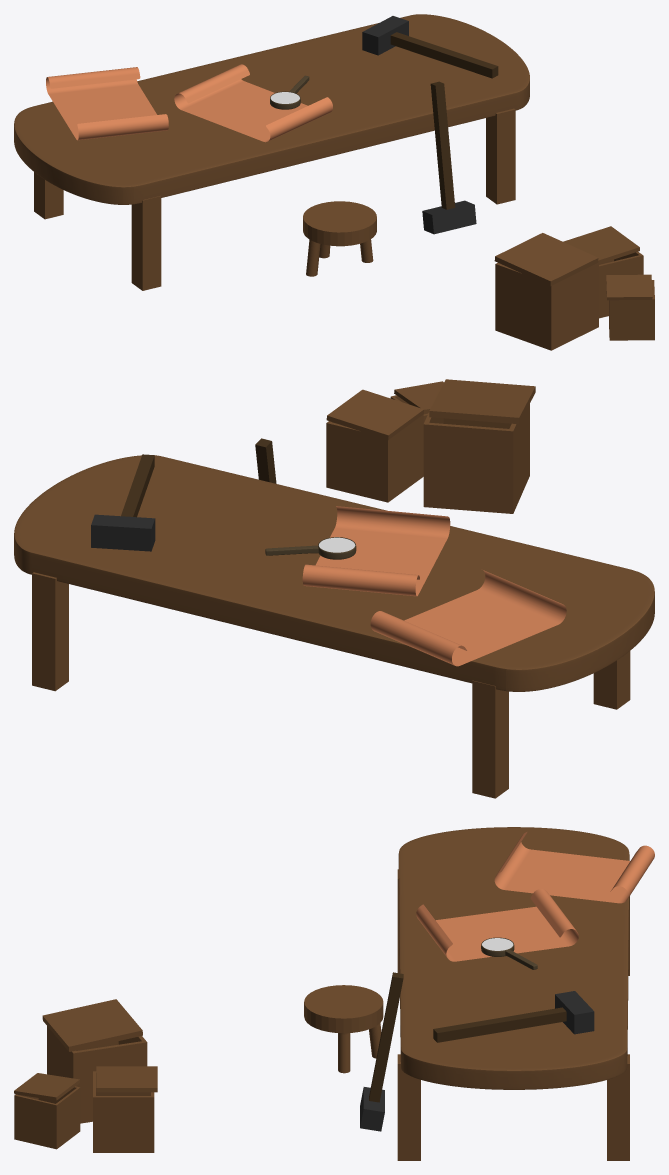
Rendered from Workshop.fbx.
3 views of the same model, one above another, from view 1: azimuth 30°, elevation 25°; view 2: azimuth 150°, elevation 25°; view 3: azimuth 270°, elevation 25° (orthographic). The views are drawn at different scales.
Parts seen in each view (by area): view 1: Cylinder.005, Cube.012, Plane, Plane.001, Cube.013, Cube.010, Cylinder.007, Cube.001, Cube.008, Cube.002, Cube.011, Cube.003 (+1 smaller); view 2: Cylinder.005, Cube.012, Plane, Cube.011, Plane.001, Cube.004, Cube.003, Cube.008, Cube.001, Cube.013, Cylinder.013, Cube.010; view 3: Cylinder.005, Cube.012, Plane, Plane.001, Cube.011, Cube.013, Cylinder.007, Cube.008, Cube.010, Cube.002, Cube.004, Cylinder.013 (+1 smaller).
Boxes of the visible parts, x1,y1,x2,y2 form: Cylinder.005: [14, 14, 529, 204]; Cube.012: [494, 233, 598, 350]; Plane: [46, 67, 168, 140]; Plane.001: [174, 64, 332, 142]; Cube.013: [606, 274, 654, 340]; Cube.010: [422, 81, 476, 234]; Cylinder.007: [303, 201, 376, 246]; Cube.001: [131, 195, 161, 290]; Cube.008: [362, 16, 498, 78]; Cube.002: [486, 108, 515, 204]; Cube.011: [563, 226, 643, 318]; Cube.003: [34, 172, 63, 219]; Cylinder.005: [14, 455, 654, 691]; Cube.012: [423, 379, 535, 513]; Plane: [370, 570, 566, 666]; Cube.011: [326, 389, 424, 502]; Plane.001: [302, 506, 450, 596]; Cube.004: [32, 572, 68, 691]; Cube.003: [472, 680, 508, 798]; Cube.008: [91, 454, 155, 551]; Cube.001: [593, 651, 630, 709]; Cube.013: [390, 381, 443, 423]; Cylinder.013: [318, 537, 356, 559]; Cube.010: [255, 438, 276, 483]; Cylinder.005: [398, 827, 629, 1089]; Cube.012: [42, 999, 147, 1123]; Plane: [494, 832, 654, 903]; Plane.001: [416, 889, 578, 961]; Cube.011: [93, 1066, 157, 1152]; Cube.013: [14, 1073, 80, 1149]; Cylinder.007: [304, 985, 383, 1033]; Cube.008: [433, 991, 594, 1042]; Cube.010: [360, 972, 403, 1131]; Cube.002: [397, 1054, 420, 1160]; Cube.004: [607, 1054, 629, 1160]; Cylinder.013: [481, 937, 514, 956].
Bounding box in the file's own units: 499 × 139 × 555.
